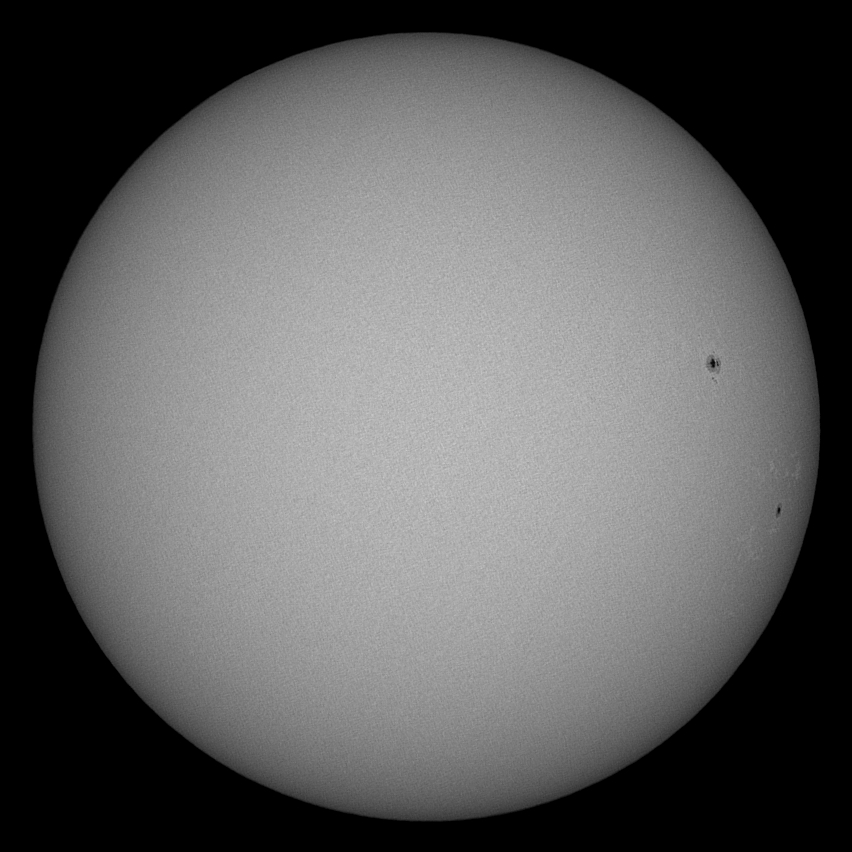sunspot: (703, 346, 723, 374), (772, 503, 787, 521)
